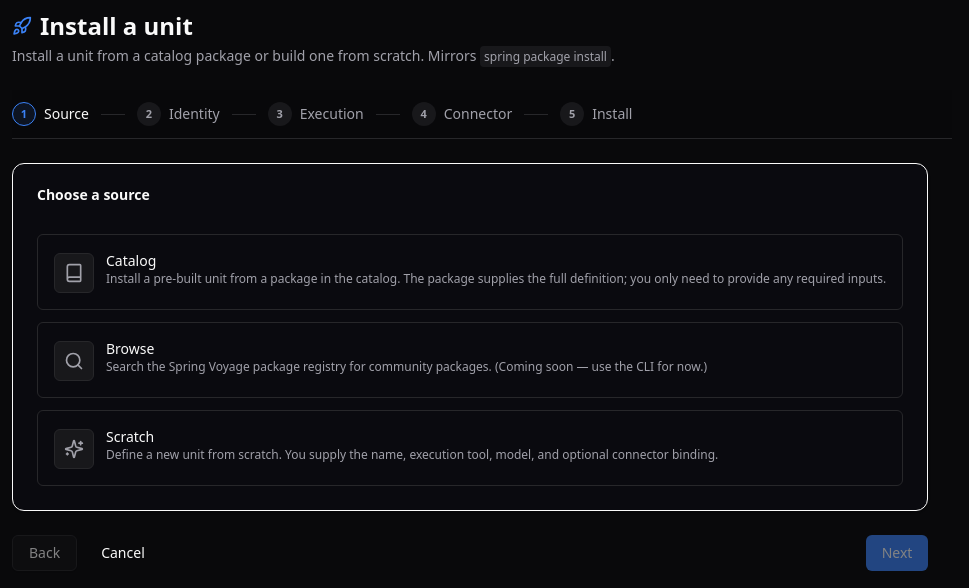
it: CreateUnitPage — catalog branch (#1563) › shows installed packages in the package picker
The width and height of the screenshot is (969, 588).
Advance to step 2 catalog.
Click the button with test id "source-card-catalog" at x=470, y=272, box [37,234,903,310]
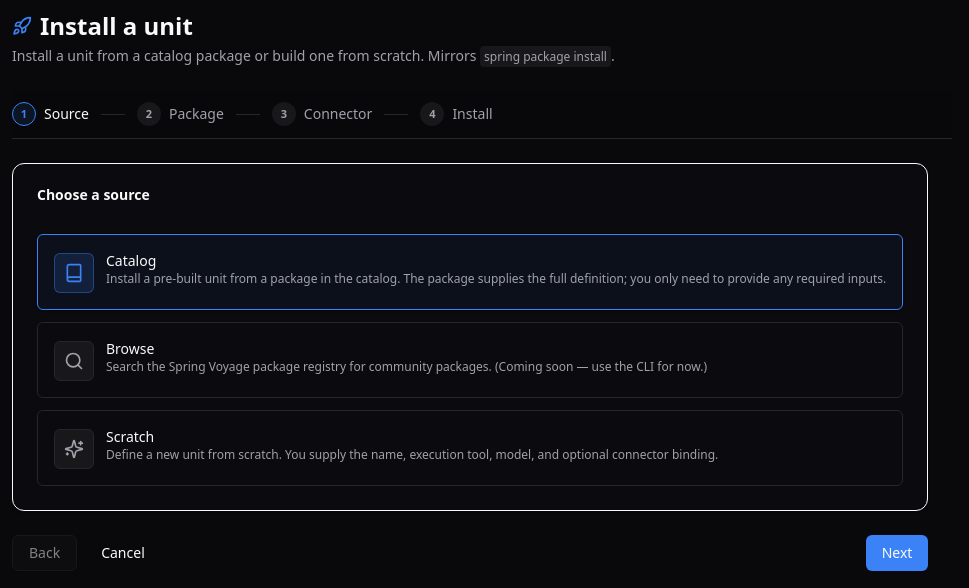
Click the button "Next" at x=897, y=553, box [866,535,928,571]
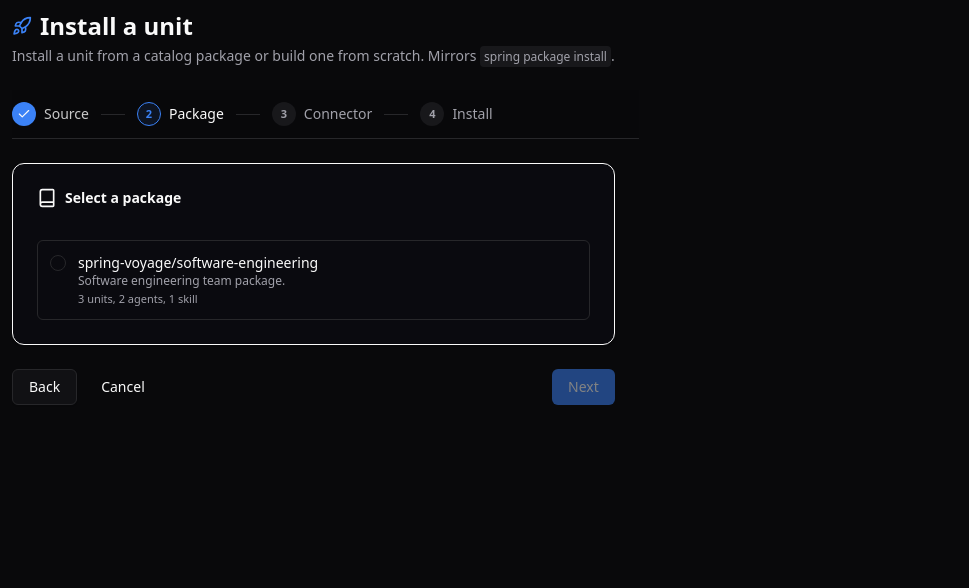
Result: the button with test id "package-option-spring-voyage/software-engineering" is shown at [37,240,590,320]
